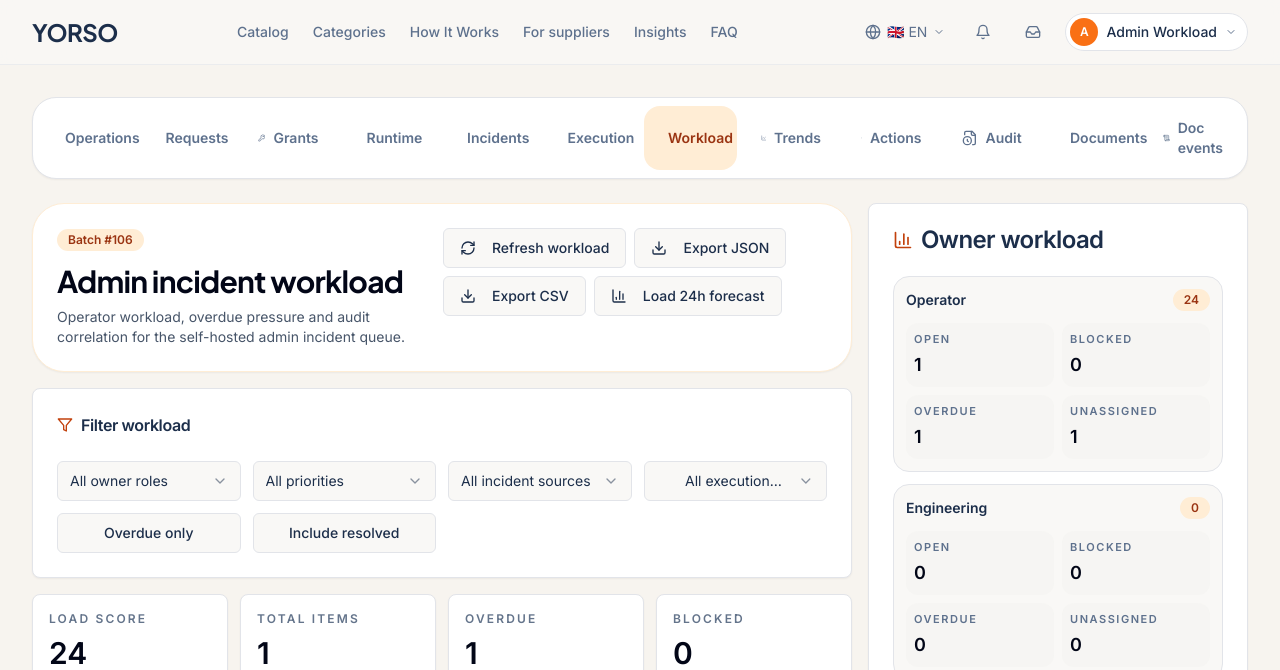
Test case: AdminIncidentWorkload page › renders workload, exports and correlation drill-down
Click the button with test id "admin-incident-workload-export-json".
click(710, 248)  # box [634,228,786,268]
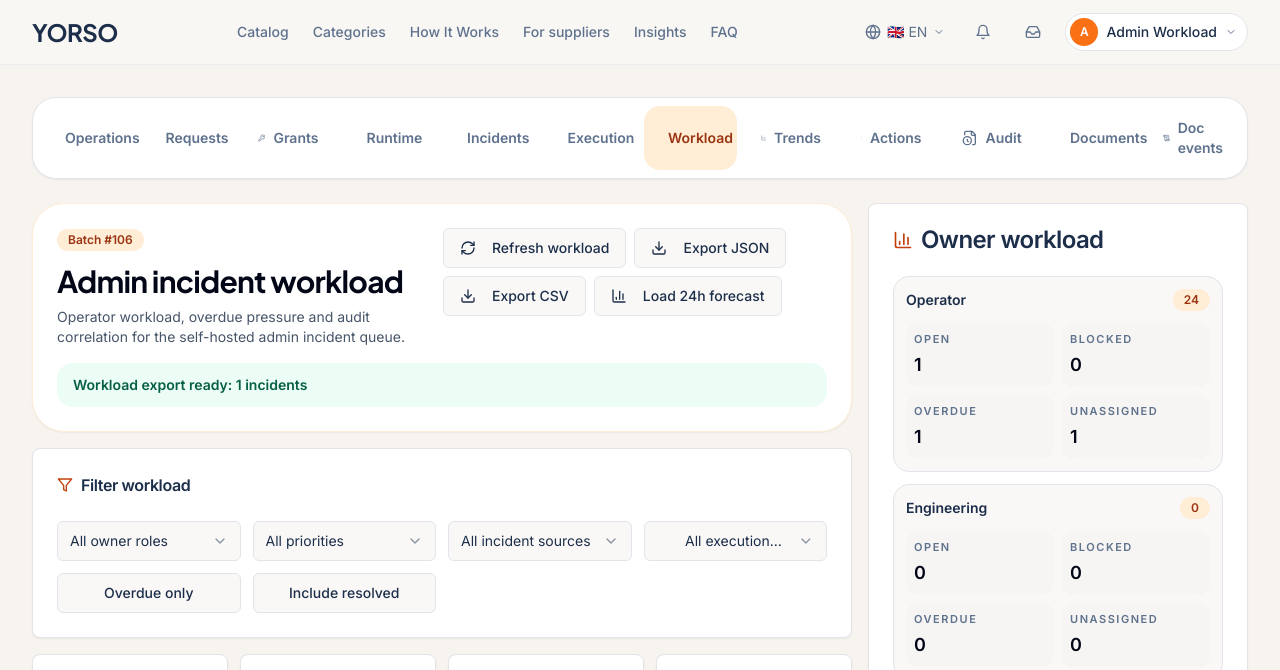
Now the text with test id "admin-incident-workload-export-status" shows "1 incidents", box [73,376,307,393]
Click the button with test id "admin-incident-workload-export-csv".
click(514, 296)  # box [443,276,586,316]
(page scrolled)
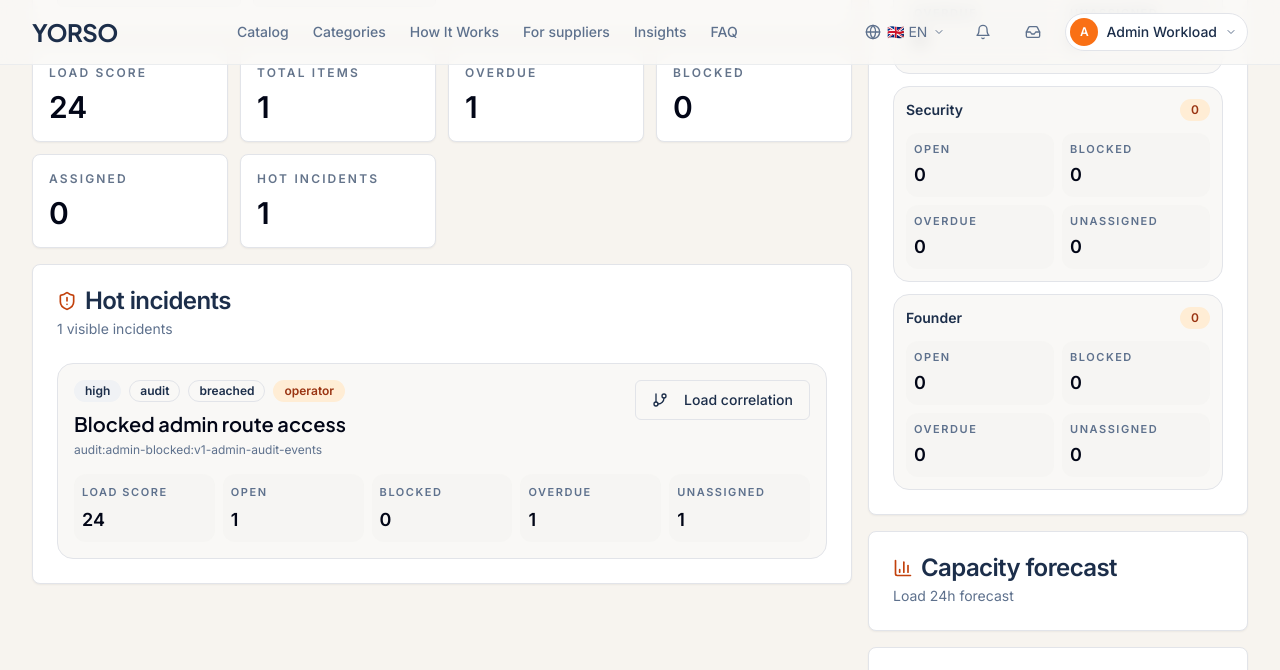
Click the button "Load correlation".
click(722, 400)  # box [635,380,810,420]
(page scrolled)
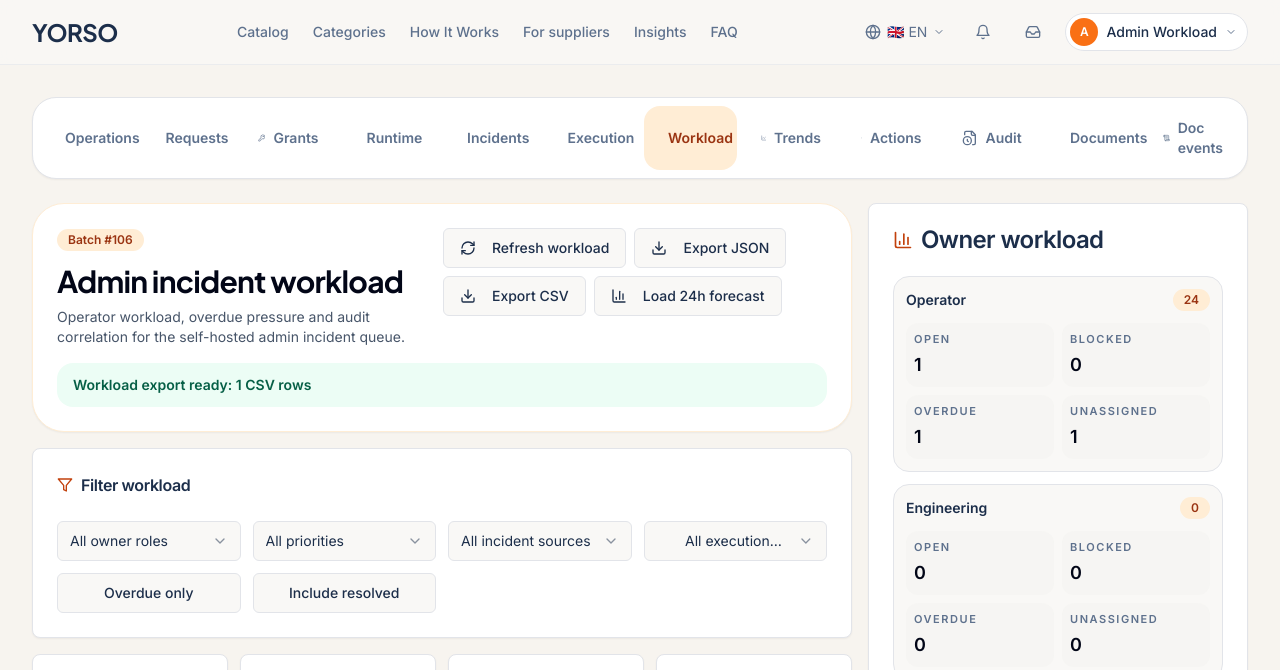
Click the button with test id "admin-incident-workload-forecast-load".
click(688, 296)  # box [594,276,782,316]
(page scrolled)
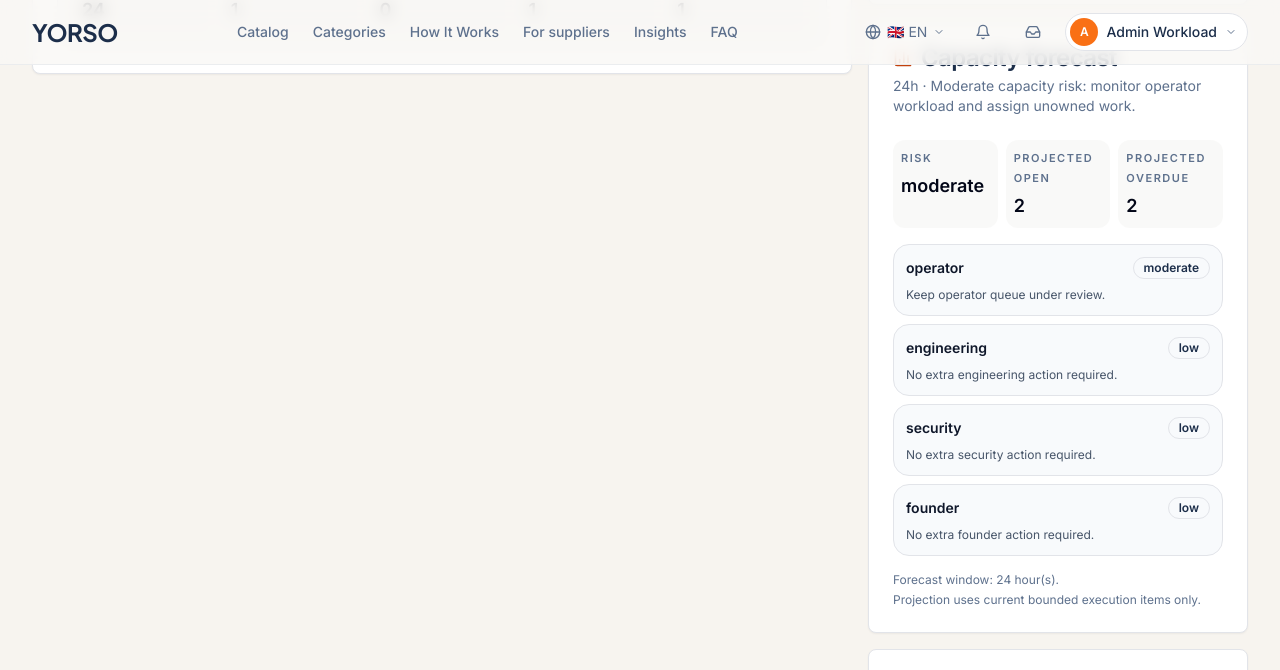
Now the element with test id "admin-incident-workload-forecast-summary" shows "moderate", box [901,175,984,196]
Now the element with test id "admin-incident-workload-forecast-owners" shows "operator", box [906,259,964,276]
